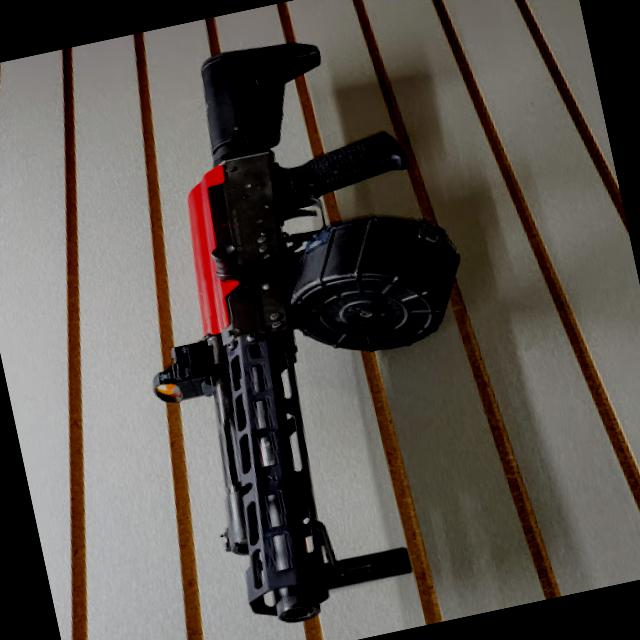long weapon: (80, 12, 523, 640)
